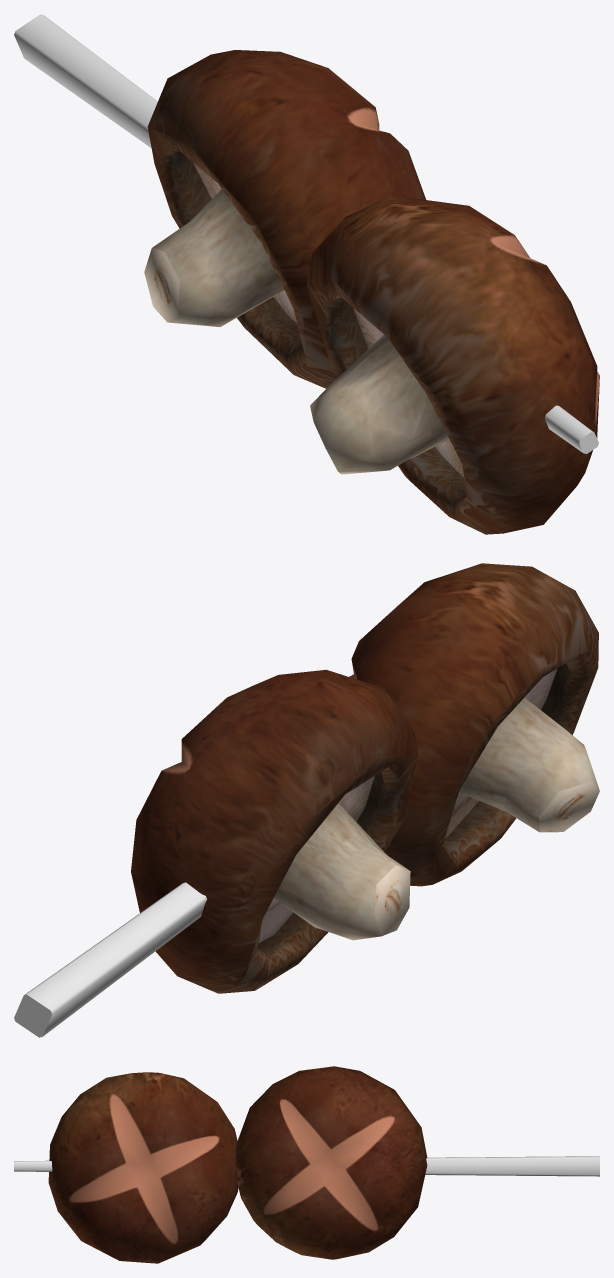
File: BBQMushroom.glb
The picture shows the model from 3 angles, top to bottom: view 1: azimuth 30°, elevation 25°; view 2: azimuth 150°, elevation 25°; view 3: azimuth 270°, elevation 25°; orthographic projection. The views are drawn at different scales.
Visible parts, largest first — view 1: xianggu2.001, xianggu2, 立方体; view 2: xianggu2, xianggu2.001, 立方体; view 3: xianggu2, xianggu2.001, 立方体.
Part boxes in pixels (bbox=[...]): xianggu2.001: bbox=[306, 196, 599, 534]; xianggu2: bbox=[144, 50, 425, 388]; 立方体: bbox=[14, 14, 598, 453]; xianggu2: bbox=[131, 669, 417, 993]; xianggu2.001: bbox=[349, 563, 599, 886]; 立方体: bbox=[14, 882, 207, 1037]; xianggu2: bbox=[235, 1066, 427, 1259]; xianggu2.001: bbox=[48, 1072, 238, 1263]; 立方体: bbox=[14, 1156, 599, 1176].
Bounding box in the file's own units: 0.8084 × 0.9518 × 2.88.
2 materials, 1 textured.
